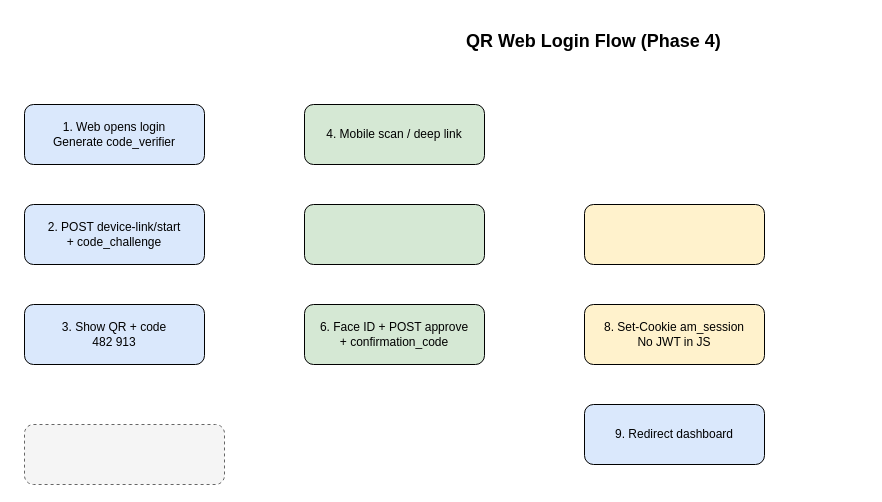
This 882x502 diagram has some shape labels left out. The centre of each missing label's shape, as x and y in pixels:
"5. GET preview host · geo · browser · code" belongs at point (394, 234).
"7. Poll status + code_verifier" belongs at point (674, 234).
"Fallback: Phase 4f Email / SMS OTP (web only)" belongs at point (124, 454).
